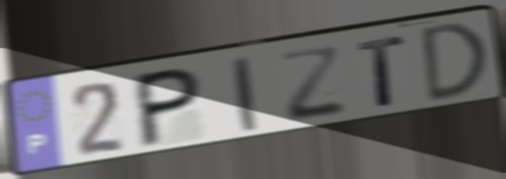2: (70, 80, 126, 160)
D: (420, 19, 492, 107)
I: (229, 53, 261, 135)
P: (135, 63, 204, 152)
T: (355, 33, 408, 108)
Z: (276, 44, 349, 125)
